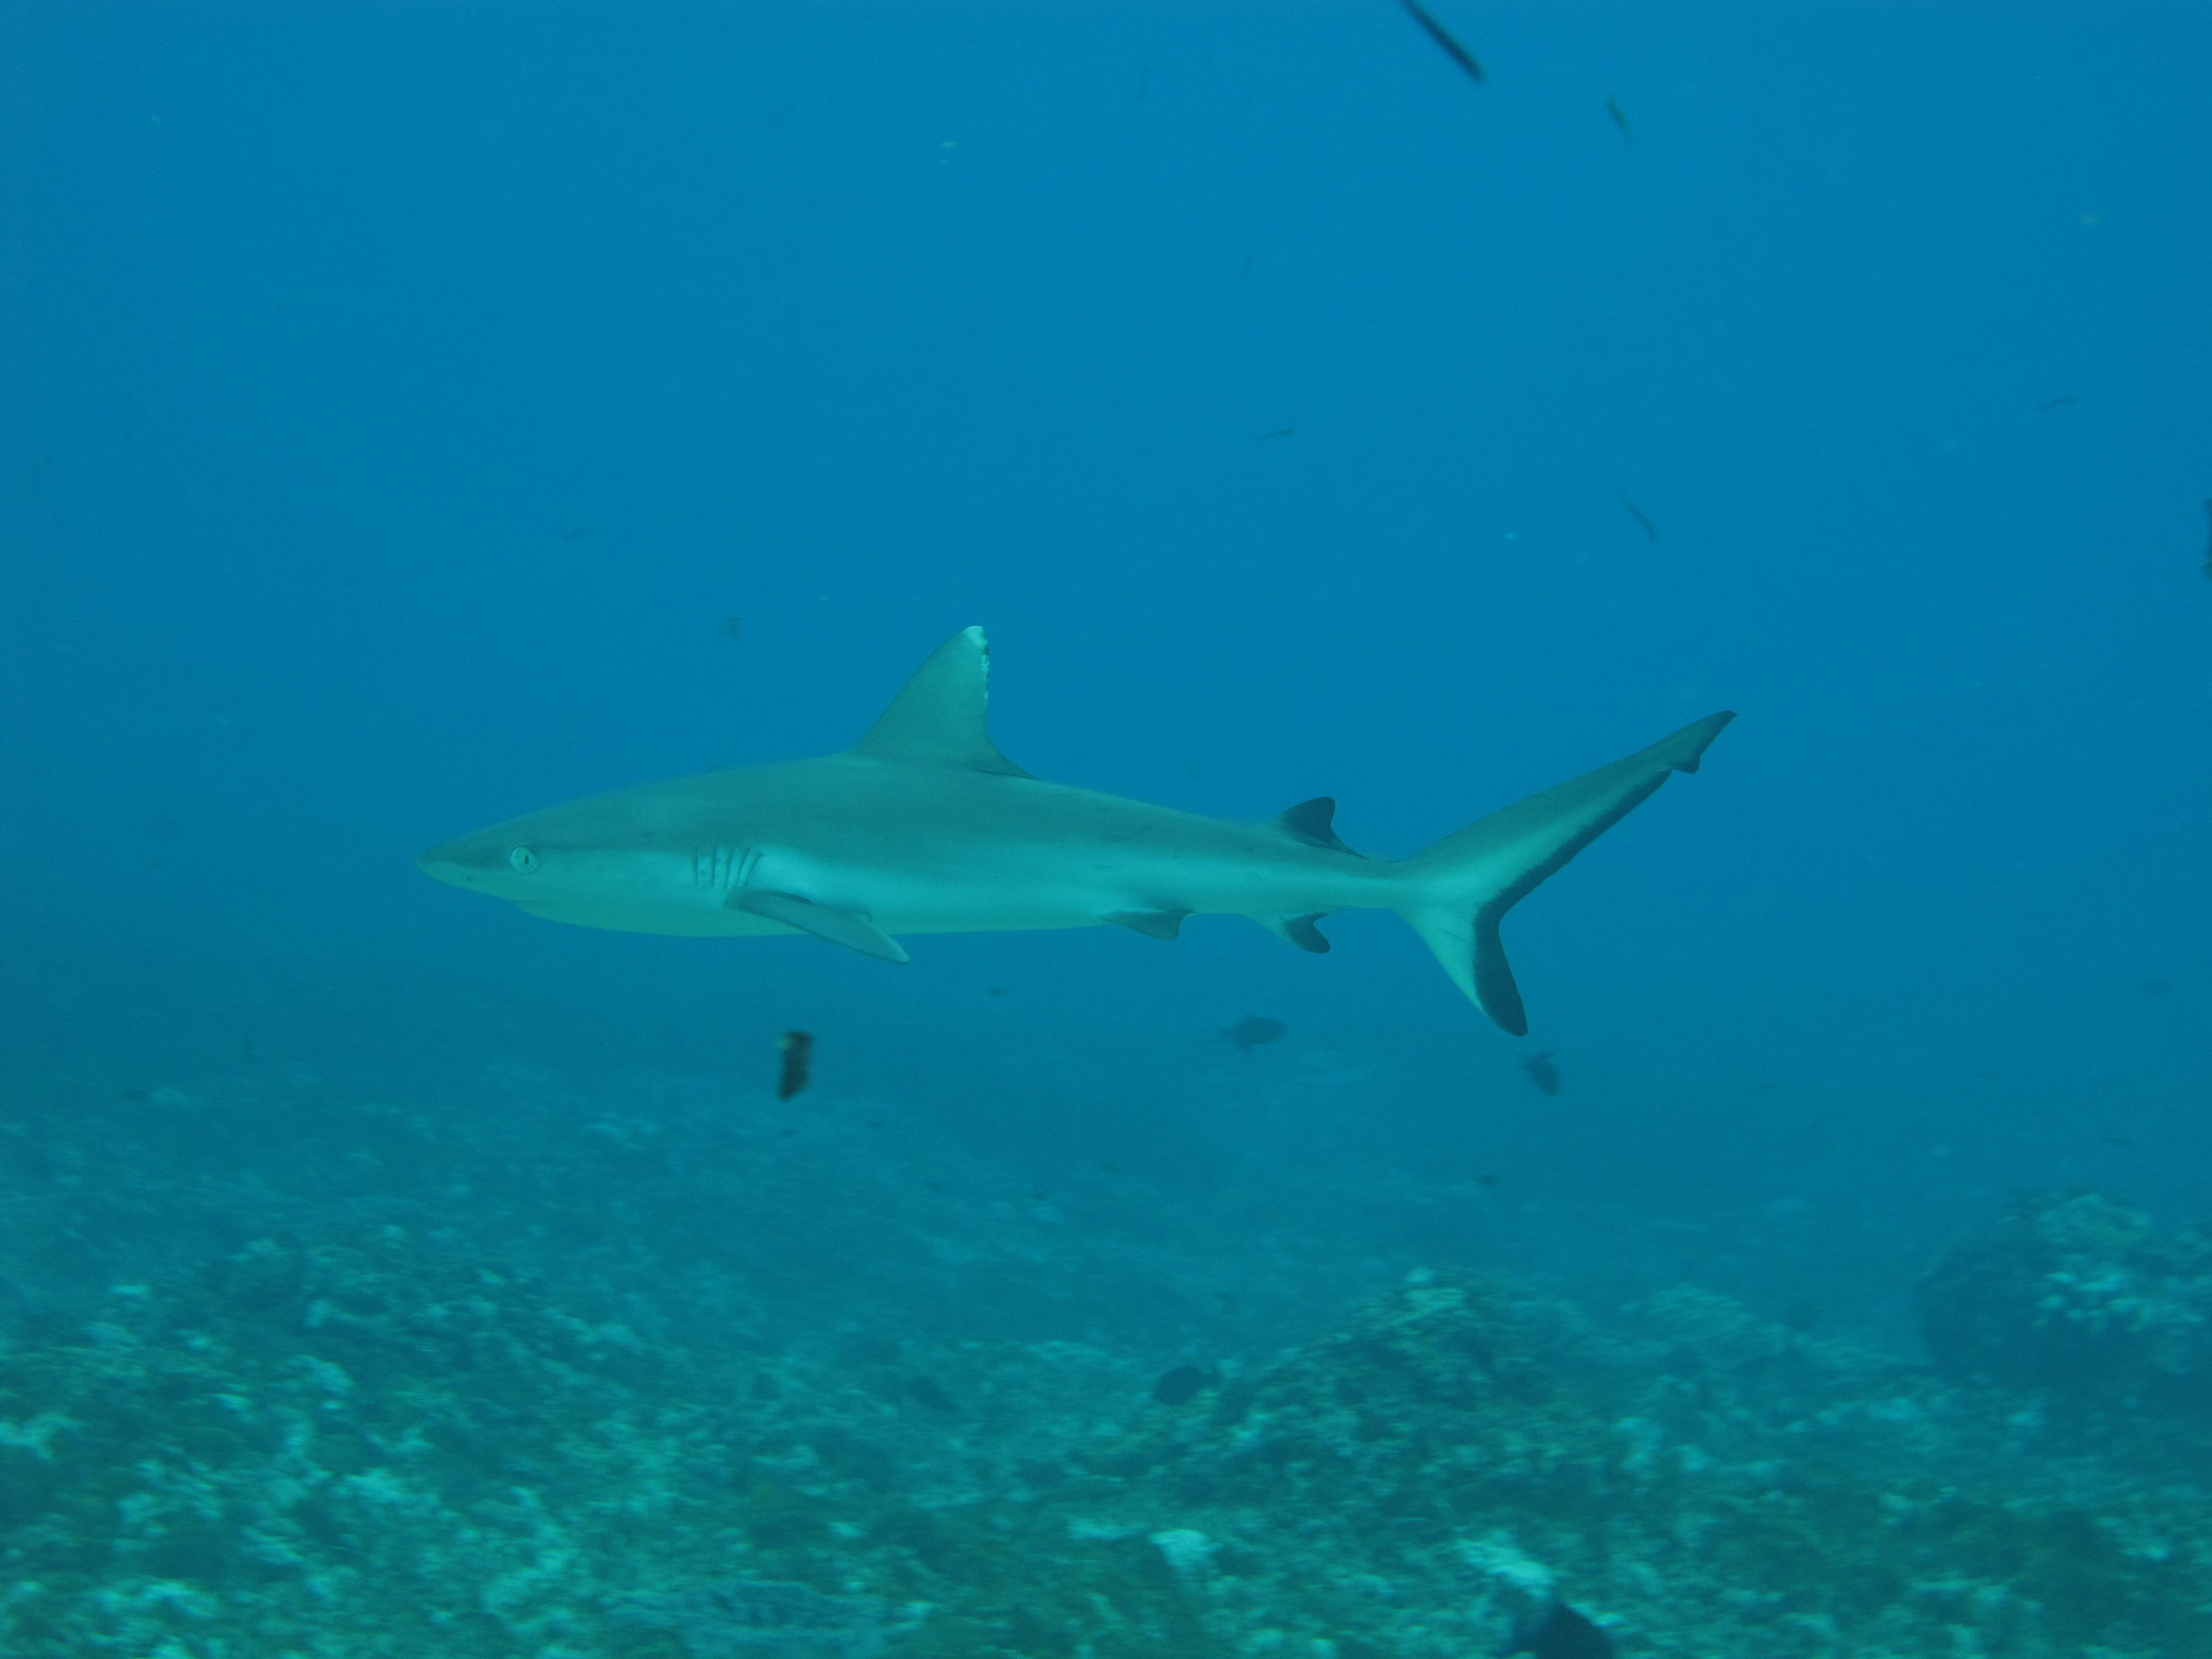Fish: (340, 598, 1761, 1073)
